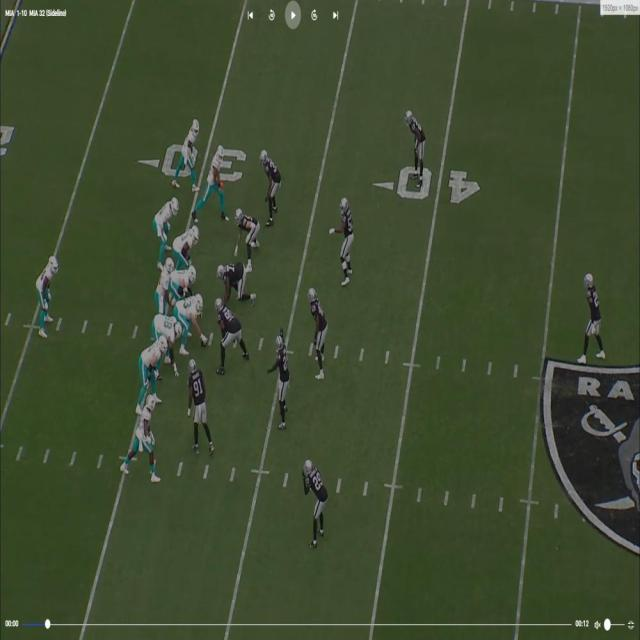center: (182, 292, 207, 347)
db: (300, 461, 326, 542), (581, 275, 602, 363), (405, 109, 425, 183), (275, 332, 288, 425)
lb: (335, 196, 356, 283), (308, 288, 326, 372), (261, 148, 279, 220)
qb: (157, 254, 175, 318)
skill: (127, 395, 158, 470), (34, 251, 58, 333), (208, 143, 225, 223), (153, 197, 179, 246), (180, 118, 200, 176)
